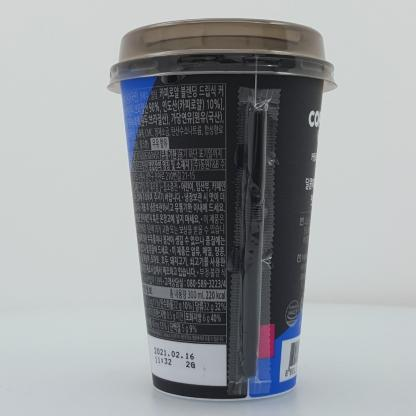---------: (107, 18, 337, 401)
